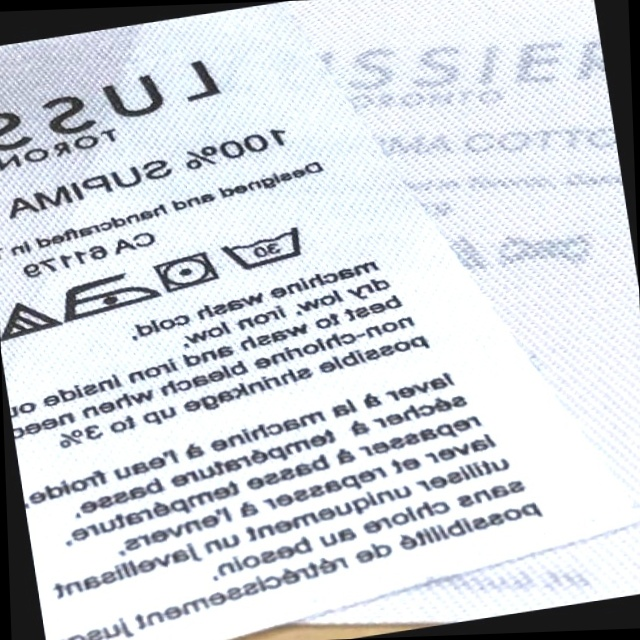30C: (214, 218, 311, 278)
iron_low: (52, 261, 157, 321)
non_chlorine_bleach: (0, 292, 60, 342)
tumble_dry_low: (148, 243, 219, 298)
